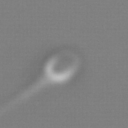normal: (1, 76, 46, 114)
